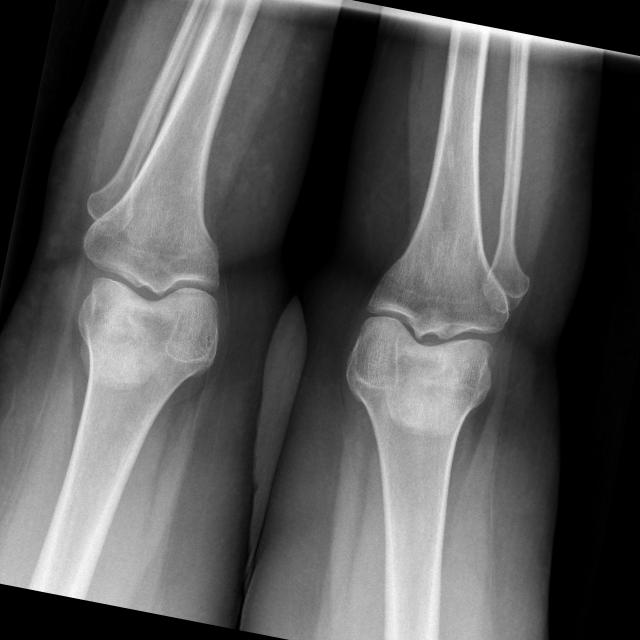Knee: (62, 196, 245, 373), (339, 253, 518, 428)
